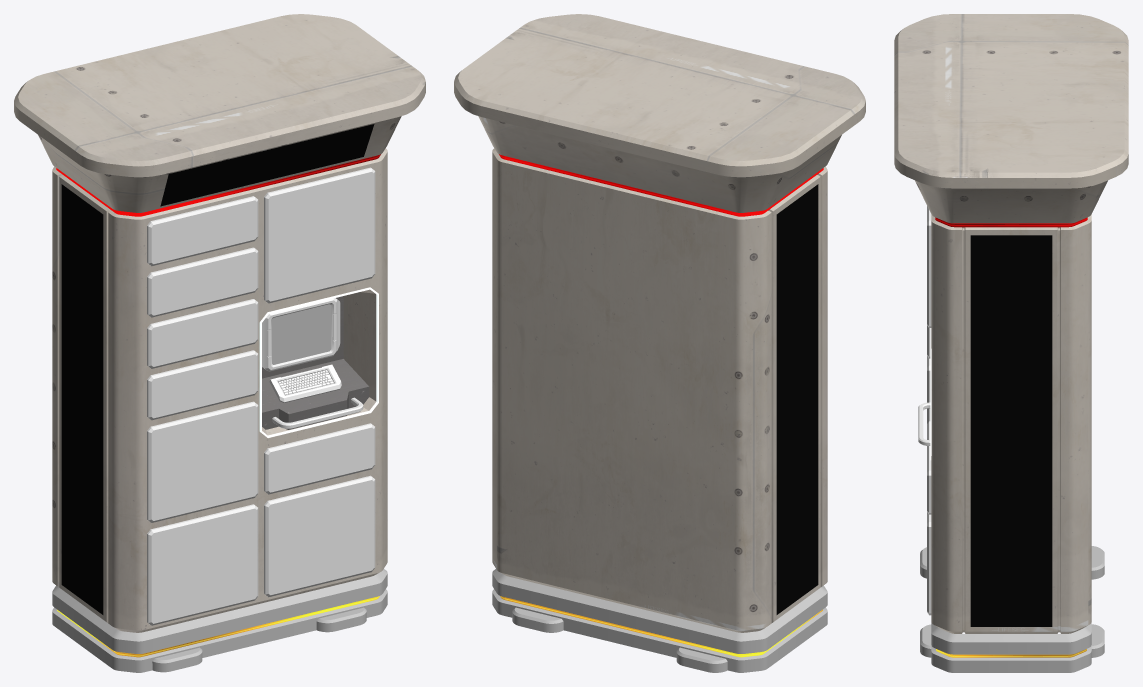
Rendered from KB3D_CBP_VendingMachine_B.fbx.
3 renders of one model, left to right at view 1: azimuth 30°, elevation 25°; view 2: azimuth 150°, elevation 25°; view 3: azimuth 270°, elevation 25°, orthographic. The views are drawn at different scales.
Visible parts, largest first — view 1: KB3D_CBP_VendingMachine_B_Main; view 2: KB3D_CBP_VendingMachine_B_Main; view 3: KB3D_CBP_VendingMachine_B_Main.
Boxes of the visible parts, box(x1,y1,x2,y2) form: KB3D_CBP_VendingMachine_B_Main: box(14, 14, 425, 672); KB3D_CBP_VendingMachine_B_Main: box(454, 14, 865, 672); KB3D_CBP_VendingMachine_B_Main: box(894, 14, 1128, 672).
Bounding box in the file's own units: 182 × 270 × 111.
